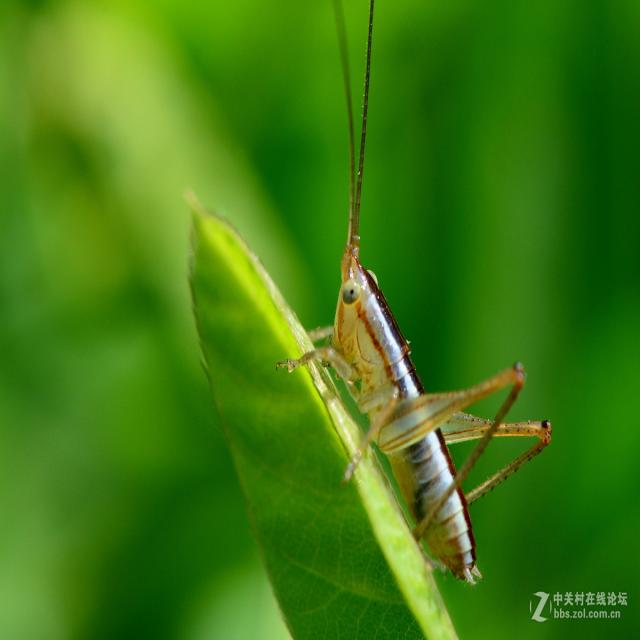ZhaMeng: (305, 221, 551, 588)
